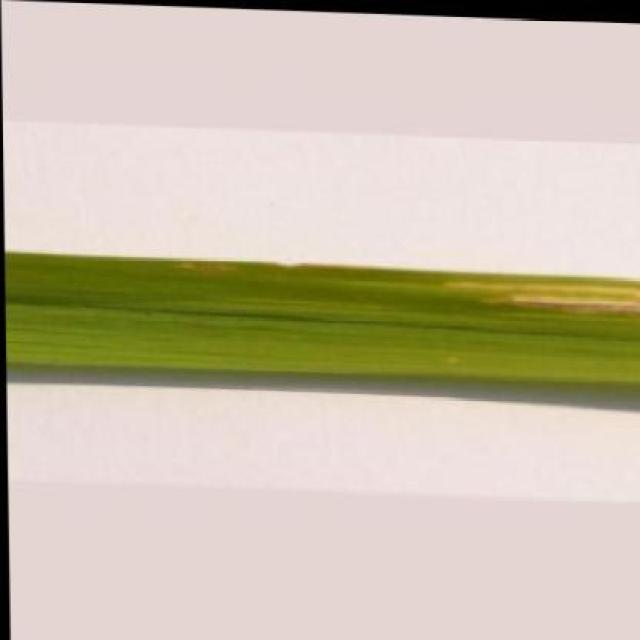Brown_Spot: (3, 245, 640, 386)
